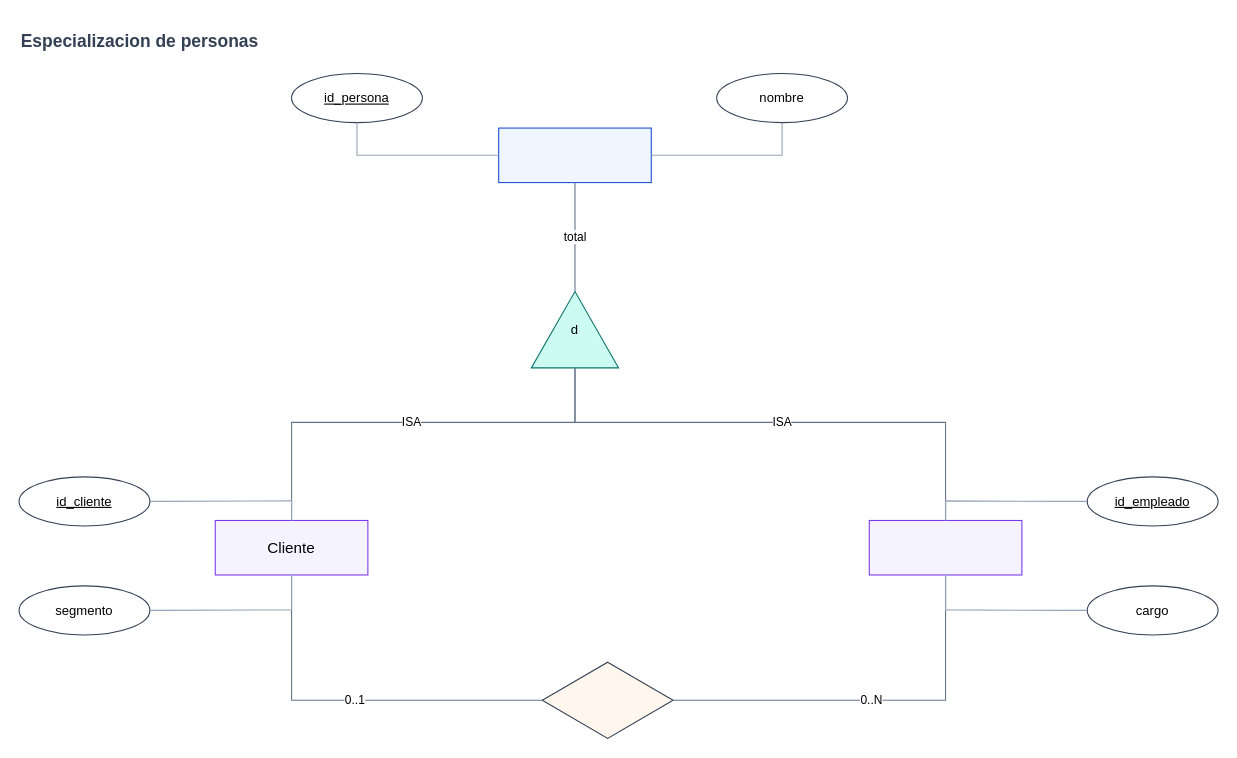
Some shapes in this 1237 by 758 pixel diagram are drawn without their labels. Each missing label, with the centre of its shape:
"atiende" belongs at (x=607, y=699).
"Empleado" belongs at (x=945, y=547).
"Persona" belongs at (x=574, y=155).
